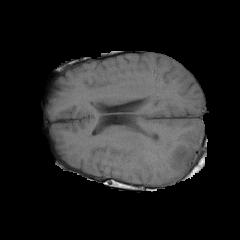glioma: (146, 128, 200, 174)
